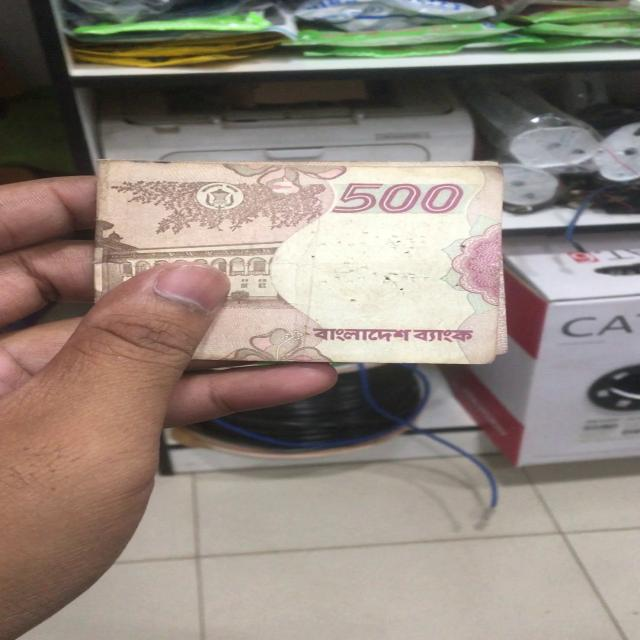Taka: (105, 161, 510, 362)
